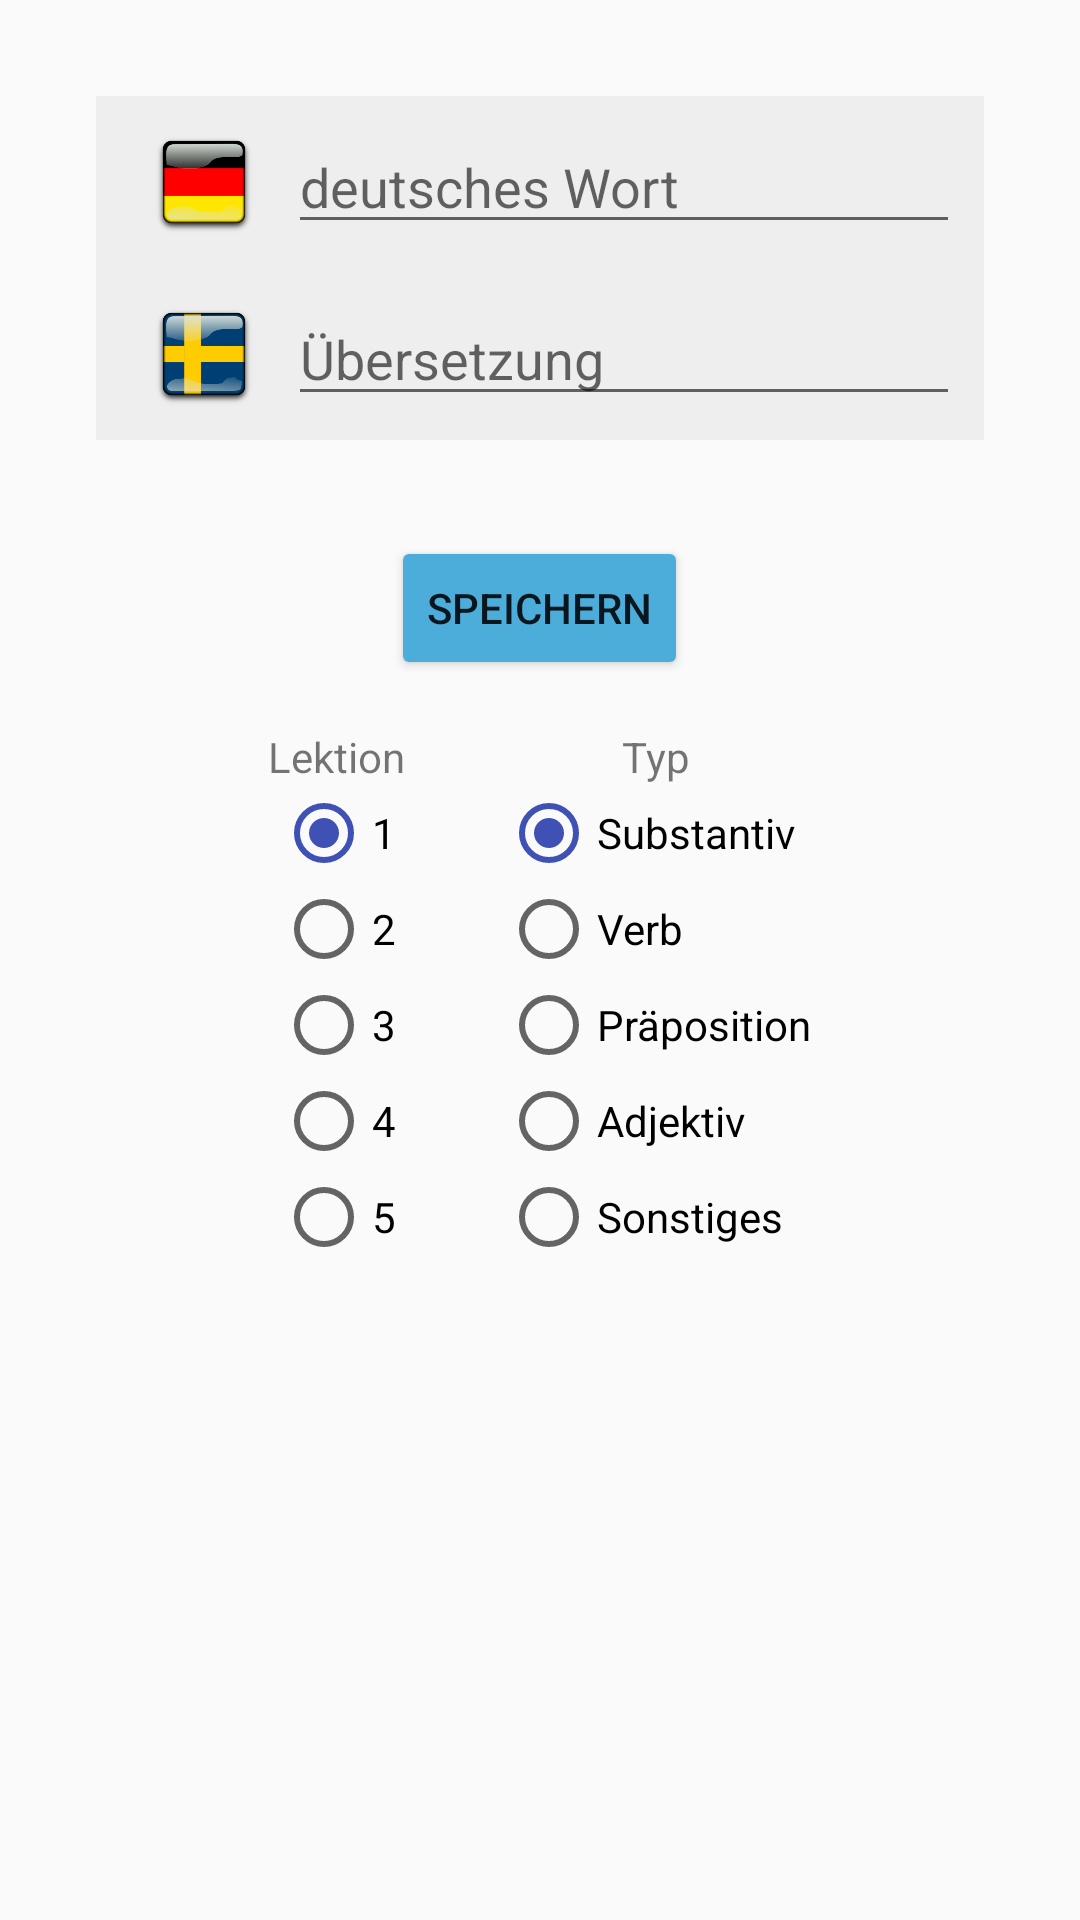

Icons on this 1080 x 1920 Android screen, each with the point to tap as point (x, y):
flag german: point (204, 184)
flag swedish: point (204, 356)
